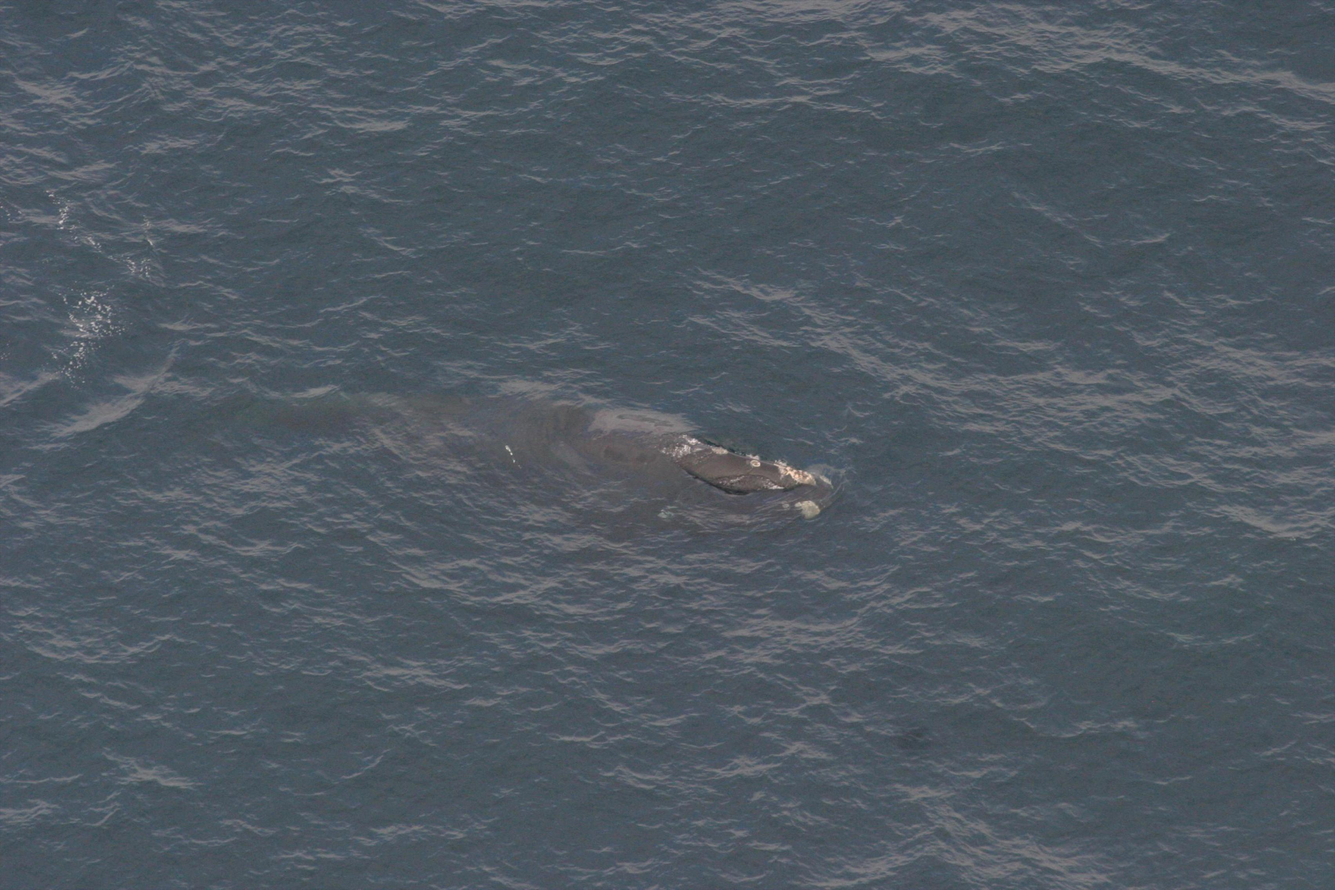whale: (250, 370, 845, 542)
